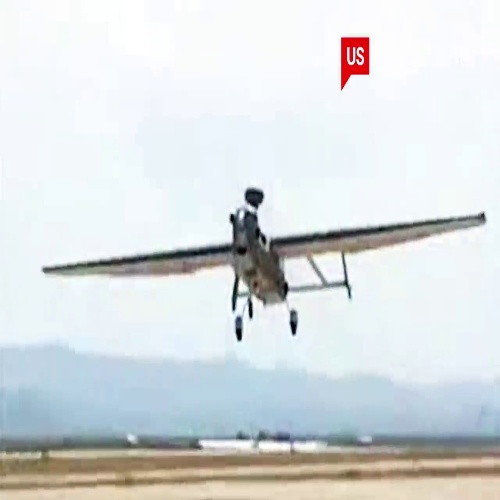uav549: (37, 187, 488, 343)
